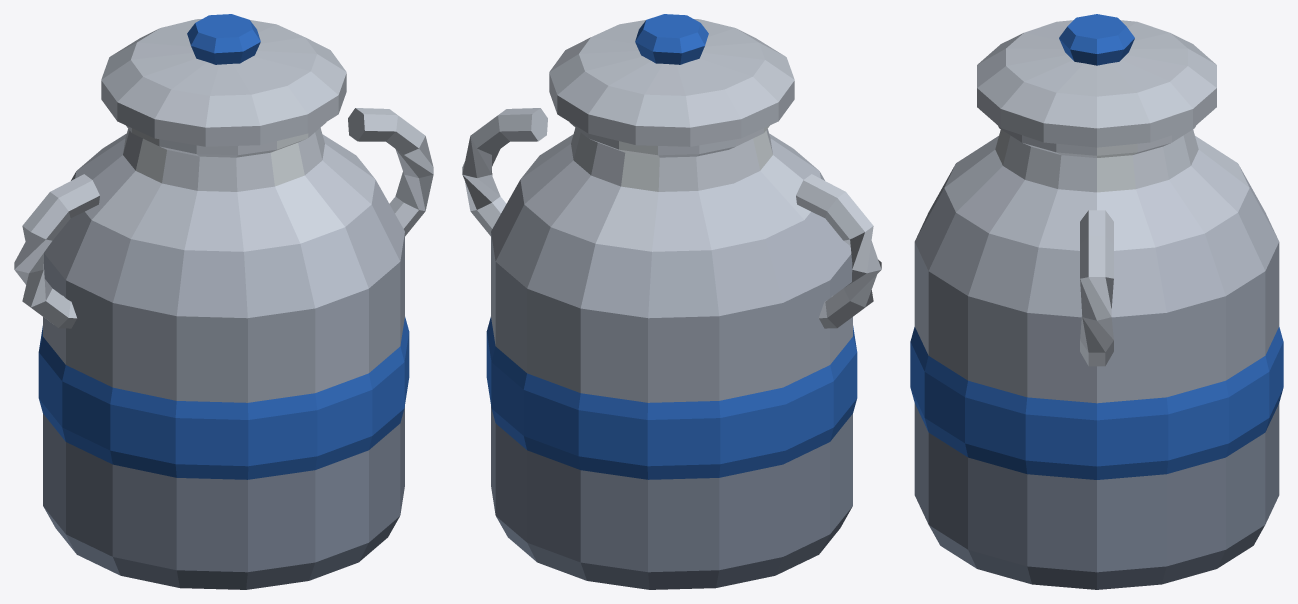
Rendered from habitat_prop_moo.fbx.
3 renders of one model, left to right at view 1: azimuth 30°, elevation 25°; view 2: azimuth 150°, elevation 25°; view 3: azimuth 270°, elevation 25°, orthographic.
Visible parts, largest first — view 1: habitat_prop_moo; view 2: habitat_prop_moo; view 3: habitat_prop_moo.
Boxes of the visible parts, <box> form: habitat_prop_moo: <box>14,14,433,589</box>; habitat_prop_moo: <box>462,14,881,589</box>; habitat_prop_moo: <box>910,14,1283,589</box>.
Size of the model in its own units: 1.14 by 1.28 by 0.88.
